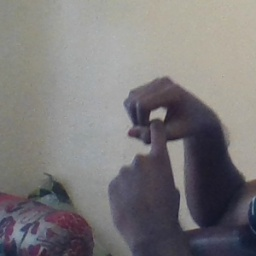Q: (105, 75, 202, 206)
